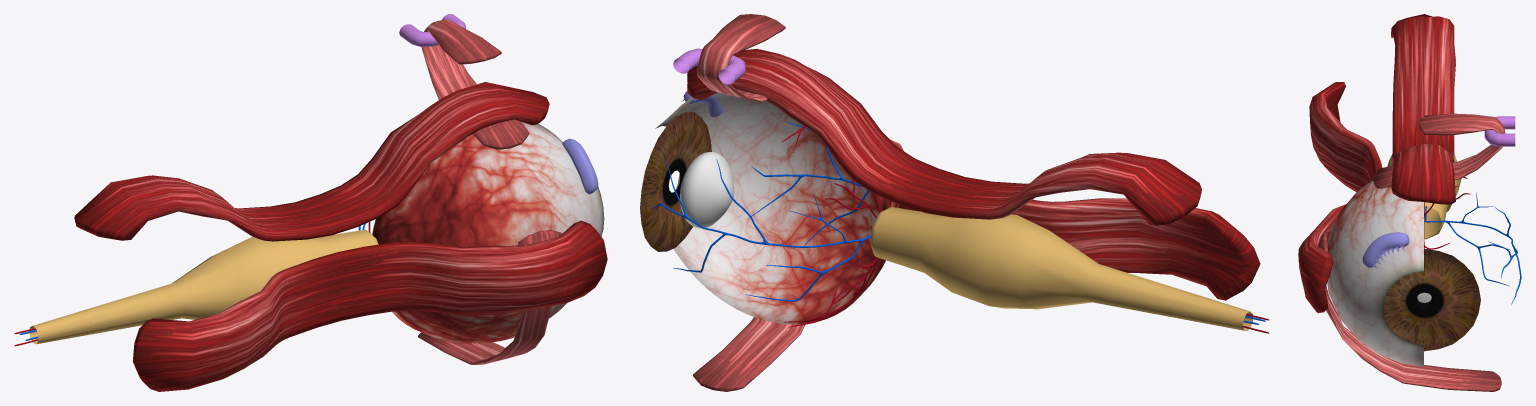
Rendered from Olho.gltf.
The picture shows the model from 3 angles, left to right: view 1: azimuth 30°, elevation 25°; view 2: azimuth 150°, elevation 25°; view 3: azimuth 270°, elevation 25°; orthographic projection. The views are drawn at different scales.
Visible parts, largest first — view 1: Fibra muscular 01.003, cornea.001, Fibra muscular 01.001, Nervo otico, Fibra muscular 02.001, Fibra muscular 02, Glandula lacrimal, Block; view 2: cornea.001, Fibra muscular 01.001, Nervo otico, Fibra muscular 01.003, Iris, Fibra muscular 02, Fibra muscular 02.001, Cristalino, Veia01, Block, Veia02, Arteria02; view 3: cornea.001, Fibra muscular 01.001, Iris, Fibra muscular 01.003, Fibra muscular 02, Fibra muscular 02.001, Glandula lacrimal, Veia01, Nervo otico, Block.
Boxes of the visible parts, box(x1,y1,x2,y2) form: Fibra muscular 01.003: box(132, 220, 607, 391); cornea.001: box(372, 121, 604, 343); Fibra muscular 01.001: box(74, 82, 549, 241); Nervo otico: box(29, 229, 378, 344); Fibra muscular 02.001: box(421, 19, 529, 149); Fibra muscular 02: box(418, 230, 562, 364); Glandula lacrimal: box(562, 138, 598, 194); Block: box(399, 14, 465, 47); cornea.001: box(655, 92, 898, 324); Fibra muscular 01.001: box(687, 48, 1201, 225); Nervo otico: box(870, 207, 1252, 331); Fibra muscular 01.003: box(890, 139, 1260, 300); Iris: box(640, 112, 711, 251); Fibra muscular 02: box(693, 317, 804, 391); Fibra muscular 02.001: box(697, 14, 785, 102); Cristalino: box(680, 151, 734, 228); Veia01: box(652, 159, 1258, 324); Block: box(673, 48, 745, 84); Veia02: box(747, 121, 1265, 321); Arteria02: box(783, 257, 1269, 333); cornea.001: box(1327, 180, 1423, 366); Fibra muscular 01.001: box(1391, 14, 1455, 204); Iris: box(1383, 249, 1480, 351); Fibra muscular 01.003: box(1298, 82, 1382, 313); Fibra muscular 02: box(1318, 232, 1501, 391); Fibra muscular 02.001: box(1373, 113, 1505, 188); Glandula lacrimal: box(1362, 232, 1409, 268); Veia01: box(1425, 192, 1521, 304); Nervo otico: box(1387, 153, 1461, 239); Block: box(1484, 116, 1515, 146).
Size of the model in its own units: 5.47 by 2.83 by 2.14.
Materials: 11 (6 with a texture image).
